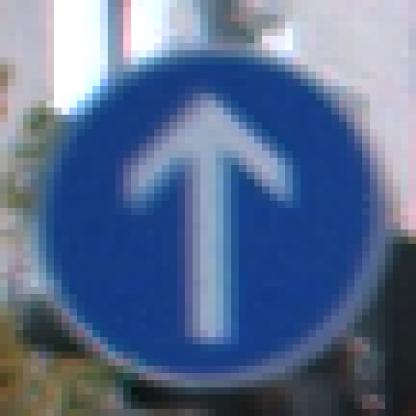AheadOnly: (40, 44, 379, 381)
